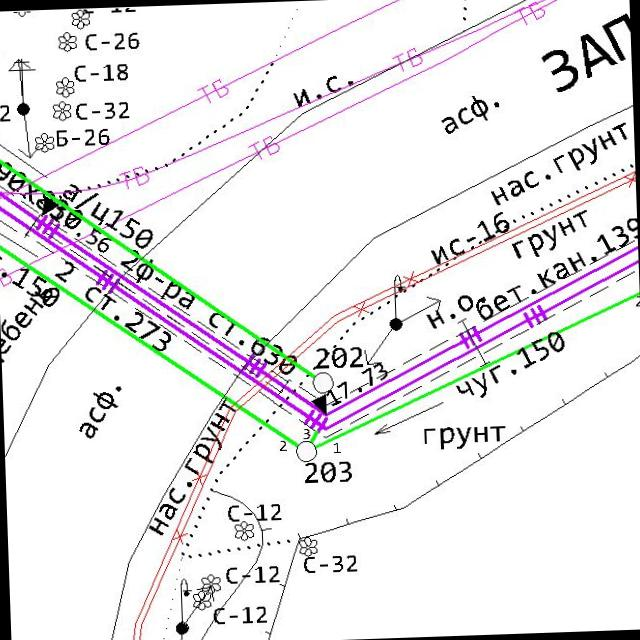asphalt: (76, 384, 125, 441), (439, 93, 502, 136)
bushes: (33, 130, 56, 154), (54, 75, 76, 100), (56, 30, 78, 54), (232, 520, 255, 542), (199, 572, 222, 594), (191, 589, 213, 611), (298, 534, 318, 558), (69, 8, 90, 30), (51, 100, 72, 122)
mark: (38, 195, 59, 218), (310, 393, 328, 417)
well: (292, 438, 320, 464), (310, 370, 334, 394)
